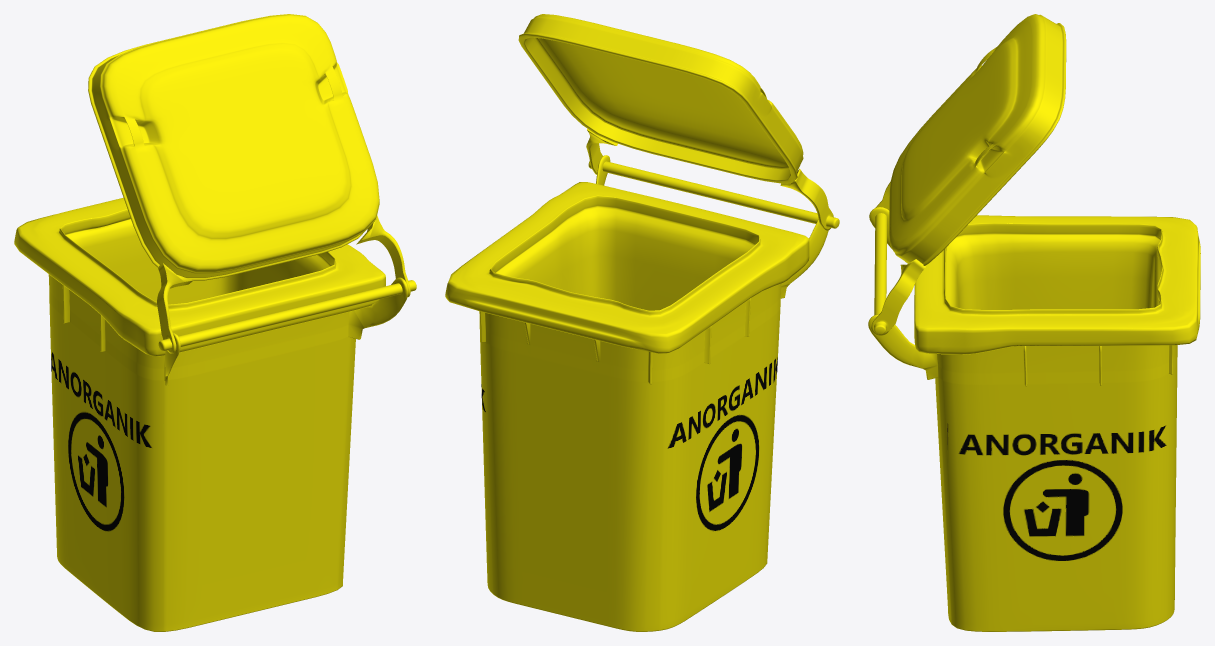
The model's file is trash-anorganik.fbx.
3 renders of one model, left to right at view 1: azimuth 30°, elevation 25°; view 2: azimuth 150°, elevation 25°; view 3: azimuth 270°, elevation 25°, orthographic. The views are drawn at different scales.
Visible parts, largest first — view 1: BinBaseRim.007, BinBaseRim.008; view 2: BinBaseRim.007, BinBaseRim.008; view 3: BinBaseRim.007, BinBaseRim.008.
Boxes of the visible parts, x1,y1,x2,y2 form: BinBaseRim.007: (14, 197, 416, 631); BinBaseRim.008: (88, 14, 410, 353); BinBaseRim.007: (445, 155, 839, 631); BinBaseRim.008: (518, 14, 833, 230); BinBaseRim.007: (868, 207, 1200, 631); BinBaseRim.008: (871, 14, 1066, 335).
Size of the model in its own units: 252 by 521 by 295.
